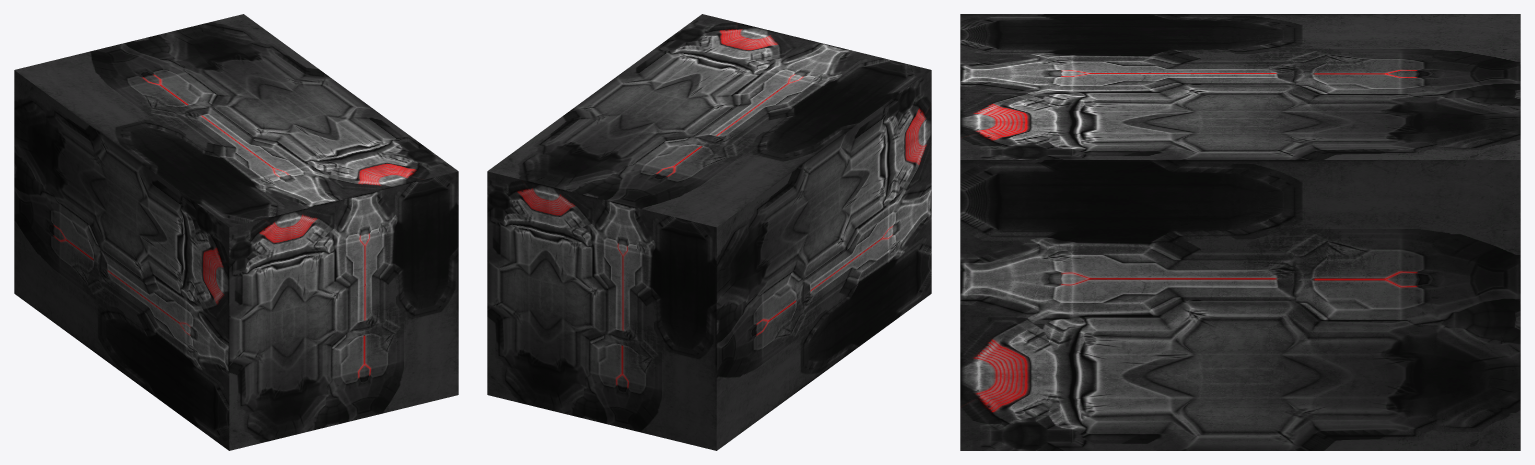
The model's file is capsule_whitebox.fbx.
3 views of the same model, side by side, from view 1: azimuth 30°, elevation 25°; view 2: azimuth 150°, elevation 25°; view 3: azimuth 270°, elevation 25° (orthographic). The views are drawn at different scales.
Parts seen in each view (by area): view 1: proxy; view 2: proxy; view 3: proxy.
Boxes of the visible parts, bbox=[...] form: proxy: bbox=[14, 14, 458, 450]; proxy: bbox=[487, 14, 931, 450]; proxy: bbox=[960, 14, 1520, 450].
Bounding box in the file's own units: 2.04 × 1.9 × 3.32.
